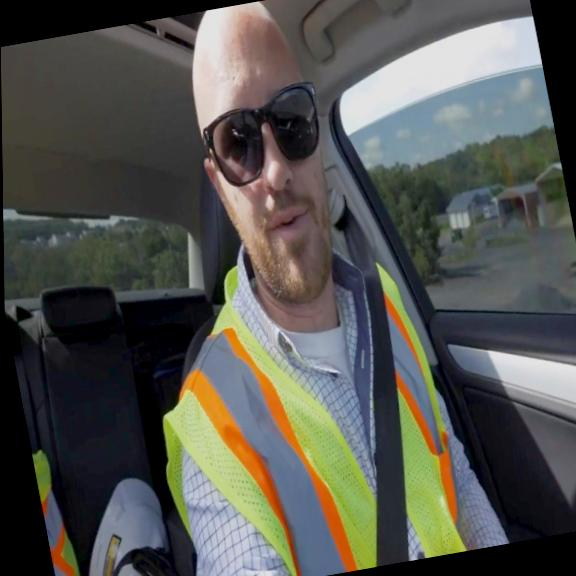safety_vest: (125, 229, 482, 576), (31, 443, 92, 576)
